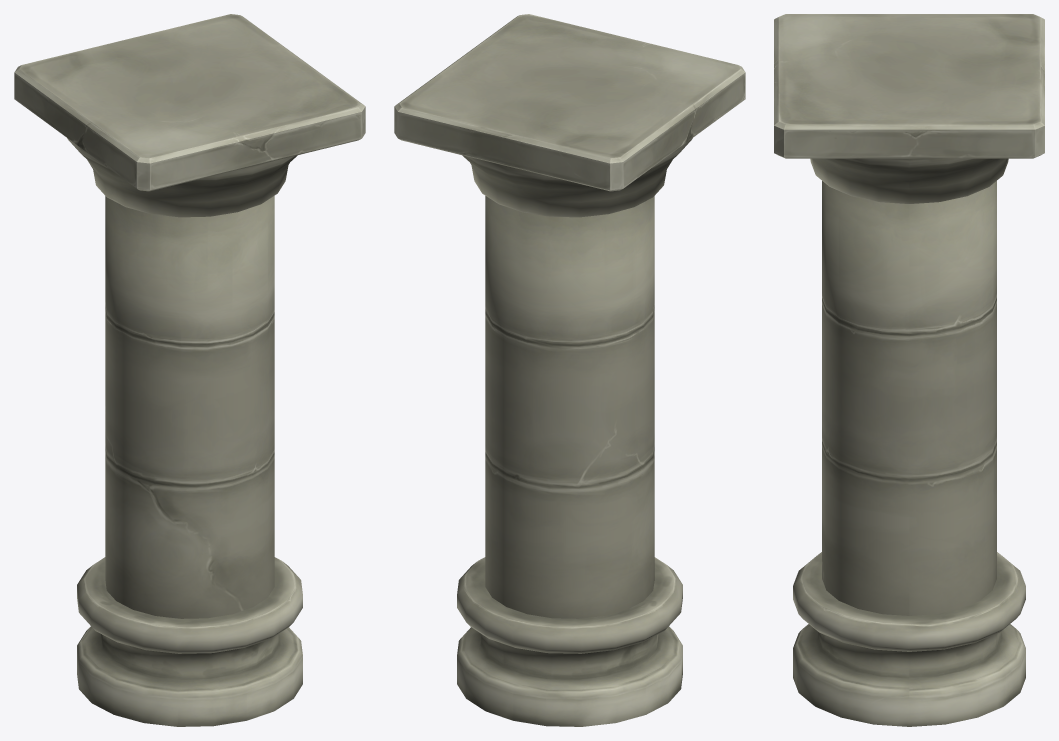
The model's file is temple pillar 02.fbx.
The picture shows the model from 3 angles, left to right: view 1: azimuth 30°, elevation 25°; view 2: azimuth 150°, elevation 25°; view 3: azimuth 270°, elevation 25°; orthographic projection. The views are drawn at different scales.
Visible parts, largest first — view 1: Pillar, Pillar Cap, Pillar Base, Pillar Top; view 2: Pillar, Pillar Cap, Pillar Base, Pillar Top; view 3: Pillar, Pillar Cap, Pillar Base, Pillar Top.
Part boxes in pixels (left/top/right/bottom): Pillar: left=105, top=196, right=274, bottom=618; Pillar Cap: left=14, top=14, right=365, bottom=191; Pillar Base: left=77, top=557, right=302, bottom=726; Pillar Top: left=67, top=138, right=297, bottom=217; Pillar: left=485, top=196, right=654, bottom=618; Pillar Cap: left=394, top=14, right=745, bottom=191; Pillar Base: left=457, top=557, right=682, bottom=726; Pillar Top: left=462, top=138, right=692, bottom=217; Pillar: left=822, top=181, right=996, bottom=615; Pillar Cap: left=774, top=14, right=1044, bottom=158; Pillar Base: left=793, top=552, right=1025, bottom=726; Pillar Top: left=810, top=158, right=1008, bottom=203.
Bounding box in the file's own units: 233 × 576 × 233.
